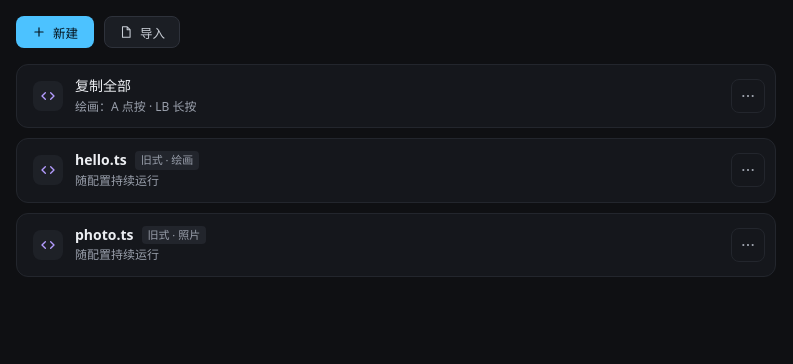
Test case: scripts page: actions › opens a script and the legacy entry in the editor
Step 1. Click the 1st button with test id "script-menu" → (748, 96), box [731,79,765,113]
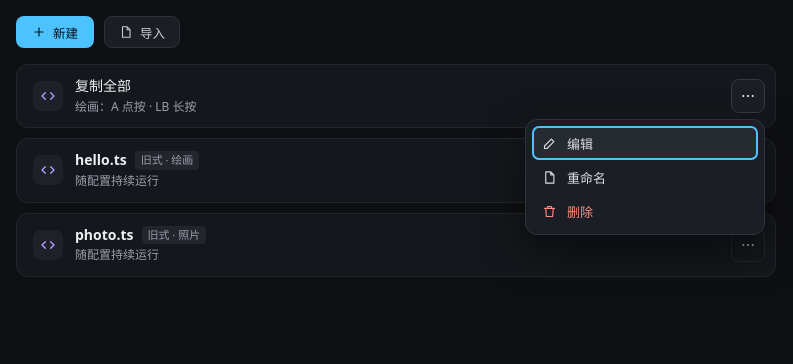
Step 2. Click the menu item "编辑" → (645, 143), box [532,126,758,160]
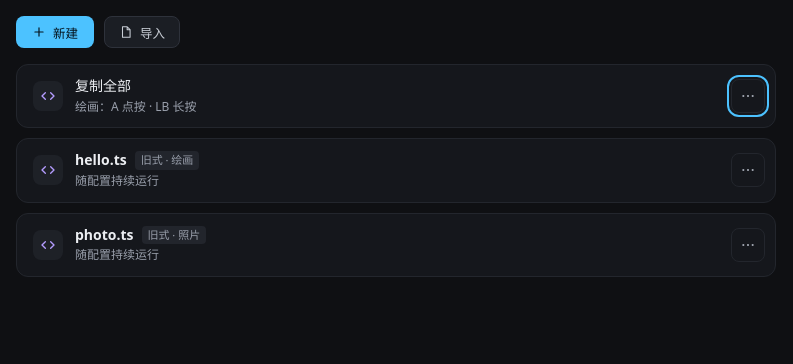
Step 3. Click the 3rd button with test id "script-menu" → (748, 245), box [731,228,765,262]
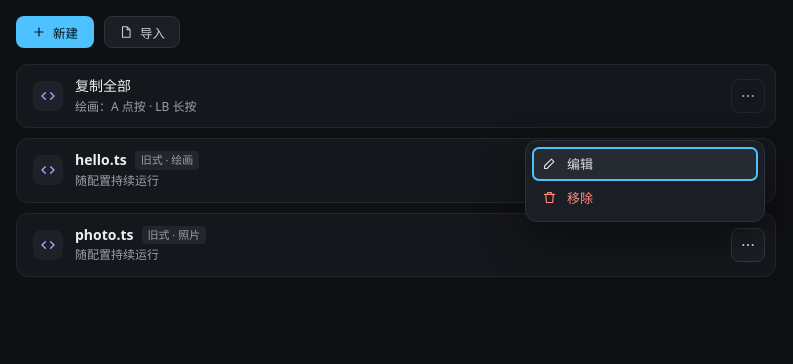
Step 4. Click the menu item "编辑" → (645, 164), box [532,147,758,181]
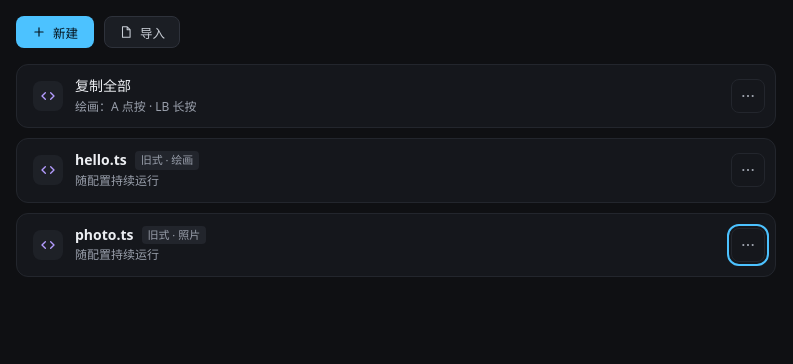
Step 5. Click the 1st button with test id "script-menu" → (748, 96), box [731,79,765,113]
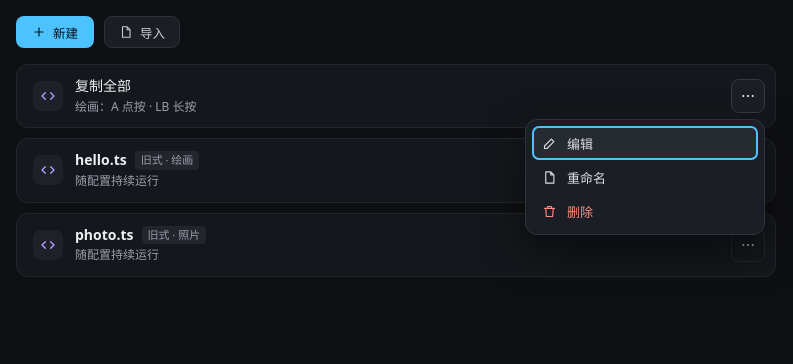
Step 6. Click the menu item "编辑" → (645, 143), box [532,126,758,160]
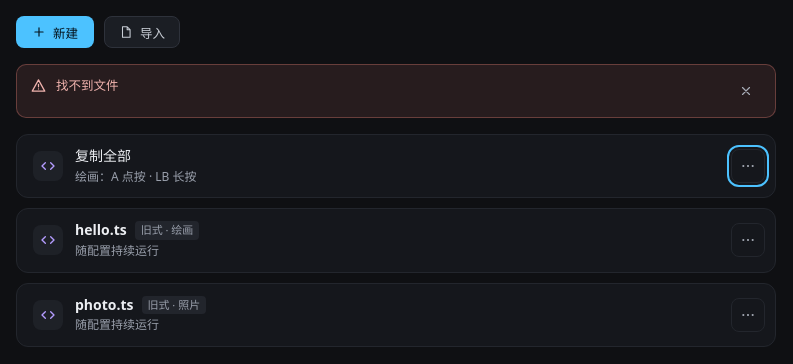
Check: the message with test id "script-outcome" reads "找不到文件", box [56,77,118,94]
